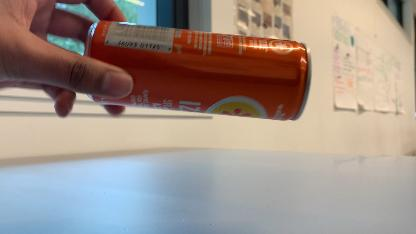Can: (83, 20, 311, 121)
